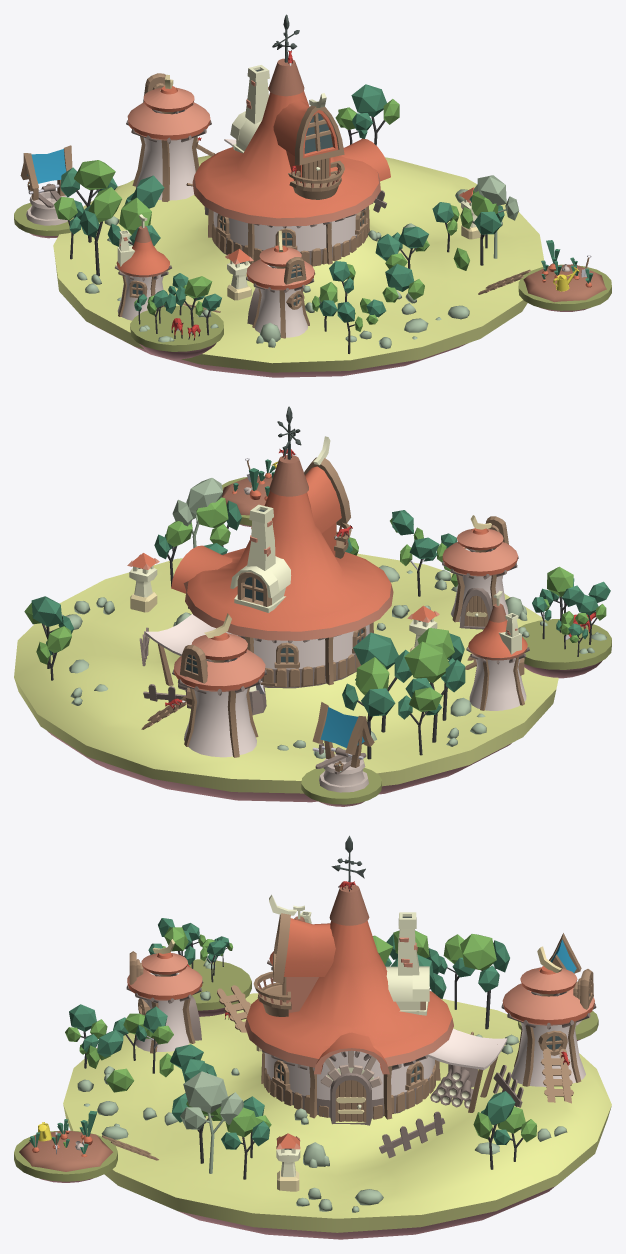
Rendered from island.gltf.
The picture shows the model from 3 angles, top to bottom: view 1: azimuth 30°, elevation 25°; view 2: azimuth 150°, elevation 25°; view 3: azimuth 270°, elevation 25°; orthographic projection. The views are drawn at different scales.
Parts seen in each view (by area): view 1: pCube11_rocks1_0, polySurface946_tree2_0; view 2: pCube11_rocks1_0, polySurface946_tree2_0; view 3: pCube11_rocks1_0, polySurface946_tree2_0.
Part boxes in pixels (box(x1,y1,x2,y2)): pCube11_rocks1_0: box(14, 14, 611, 377); polySurface946_tree2_0: box(477, 175, 506, 205); pCube11_rocks1_0: box(14, 406, 611, 806); polySurface946_tree2_0: box(187, 478, 222, 515); pCube11_rocks1_0: box(14, 835, 611, 1239); polySurface946_tree2_0: box(183, 1071, 227, 1113).
Size of the model in its own units: 54.95 by 36.38 by 58.8.
1 material, 1 textured.
